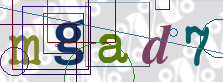7: (185, 25, 210, 67)
a: (98, 34, 127, 64)
d: (141, 24, 172, 65)
g: (54, 18, 86, 66)
m: (8, 34, 42, 67)
